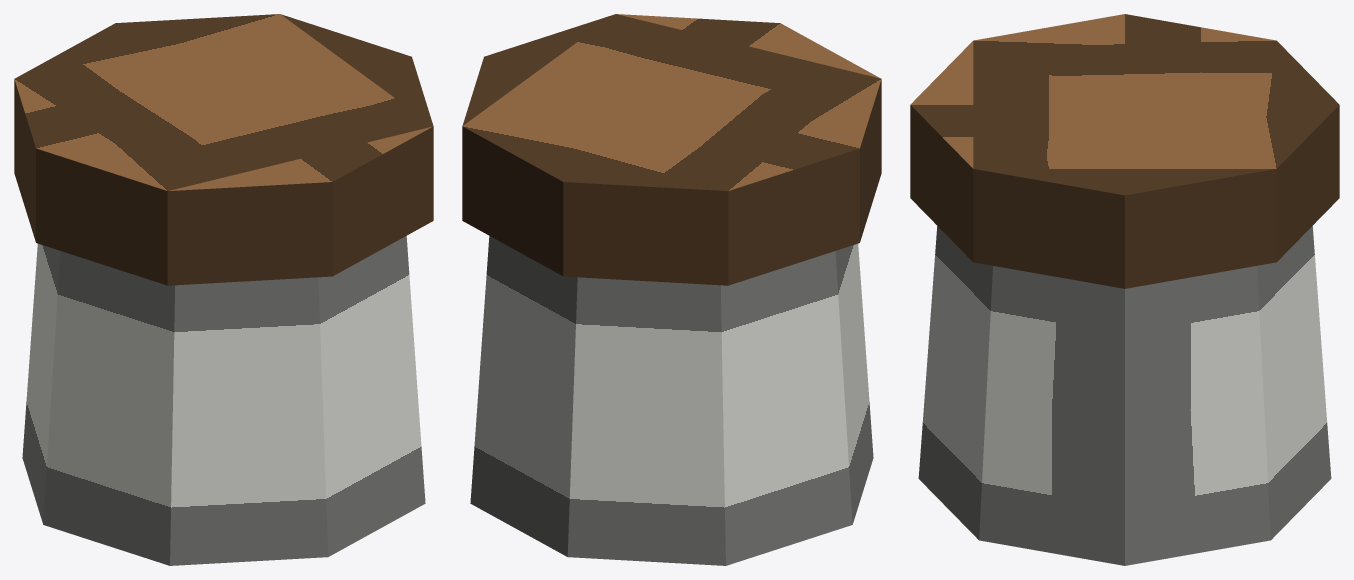
Rendered from Jar.obj.
3 renders of one model, left to right at view 1: azimuth 30°, elevation 25°; view 2: azimuth 150°, elevation 25°; view 3: azimuth 270°, elevation 25°, orthographic.
Parts seen in each view (by area): view 1: Jar; view 2: Jar; view 3: Jar.
Part boxes in pixels (bbox=[...]): Jar: bbox=[14, 14, 433, 565]; Jar: bbox=[462, 14, 881, 565]; Jar: bbox=[910, 14, 1339, 565].
Size of the model in its own units: 0.104 by 0.1 by 0.104.
1 material, 1 textured.
